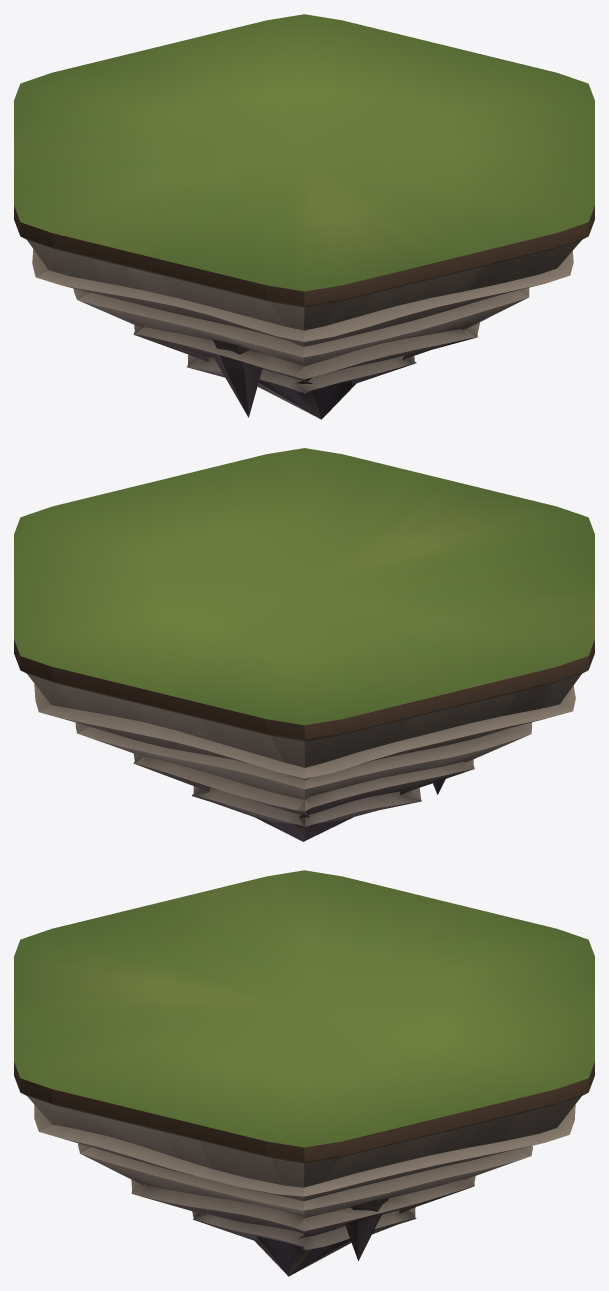
Rendered from socle_hex_3.glb.
The picture shows the model from 3 angles, top to bottom: view 1: azimuth 30°, elevation 25°; view 2: azimuth 150°, elevation 25°; view 3: azimuth 270°, elevation 25°; orthographic projection.
Visible parts, largest first — view 1: socle_hex_3; view 2: socle_hex_3; view 3: socle_hex_3.
Part boxes in pixels (x1,y1,x2,y2): socle_hex_3: [14, 14, 594, 419]; socle_hex_3: [14, 448, 594, 841]; socle_hex_3: [14, 870, 594, 1276].
Bounding box in the file's own units: 12.42 × 5.5 × 11.
